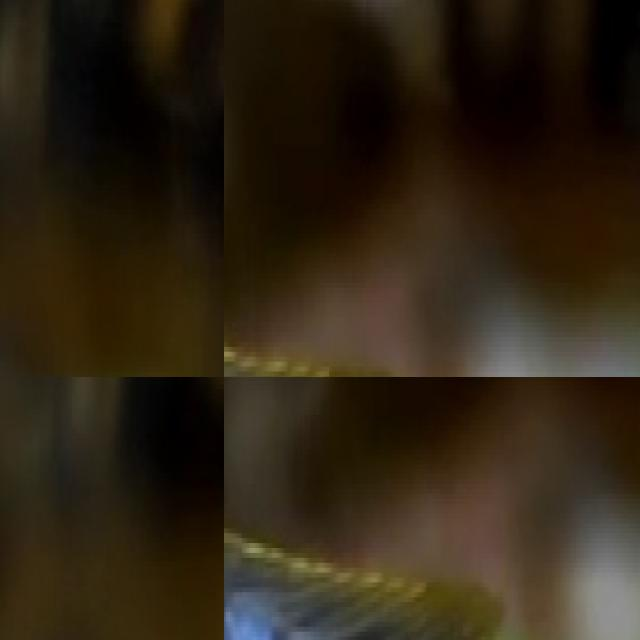fish: (0, 0, 224, 377), (260, 377, 640, 533)
